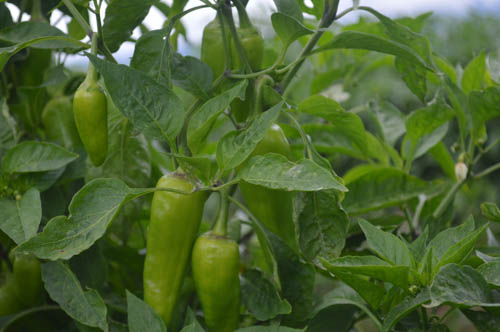ChiliPepper: (140, 174, 197, 322), (239, 125, 296, 240), (194, 236, 242, 324), (75, 91, 114, 165), (199, 29, 233, 113), (232, 29, 263, 110)
